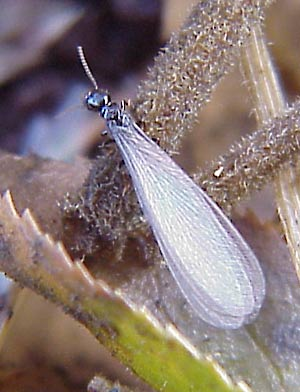flying termite: (62, 38, 284, 351)
